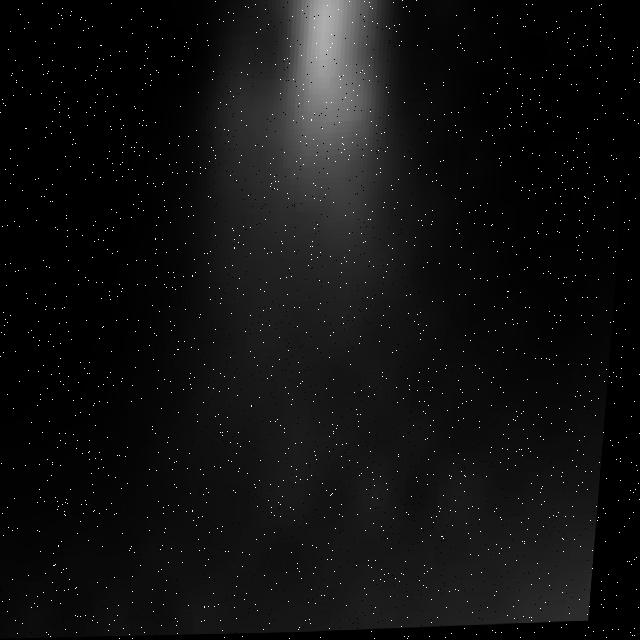person: (162, 1, 429, 483)
